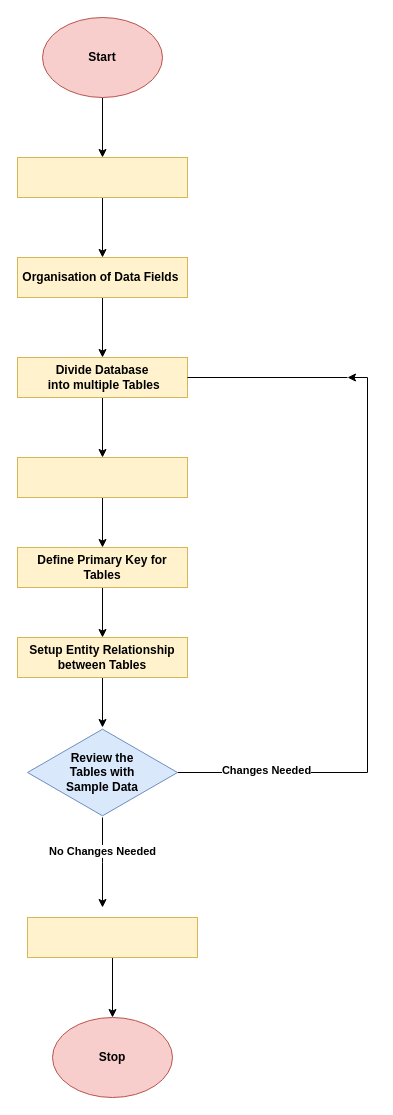
Image size: 393x1115. Some labels were removed from this diagram. The shapes that lost their labels are listed below. From the top down, each one's centre as x and y in pixels, then its label:
point (102, 177): Define Primary Objective of Database
point (102, 477): Sub-Divide Tables into Columns
point (112, 937): Apply Normalisation Rules
